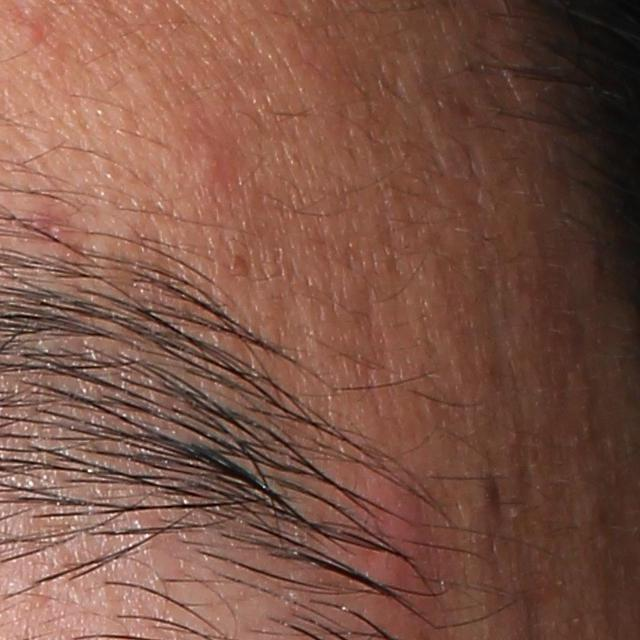nevus: (479, 468, 508, 514)
